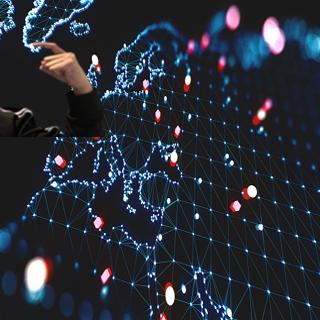WHY: (28, 37, 91, 93)
